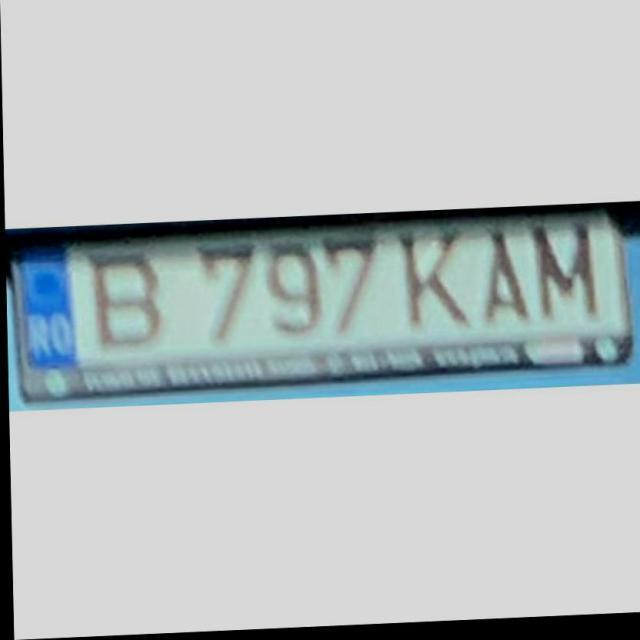license-plates: (11, 212, 634, 401)
